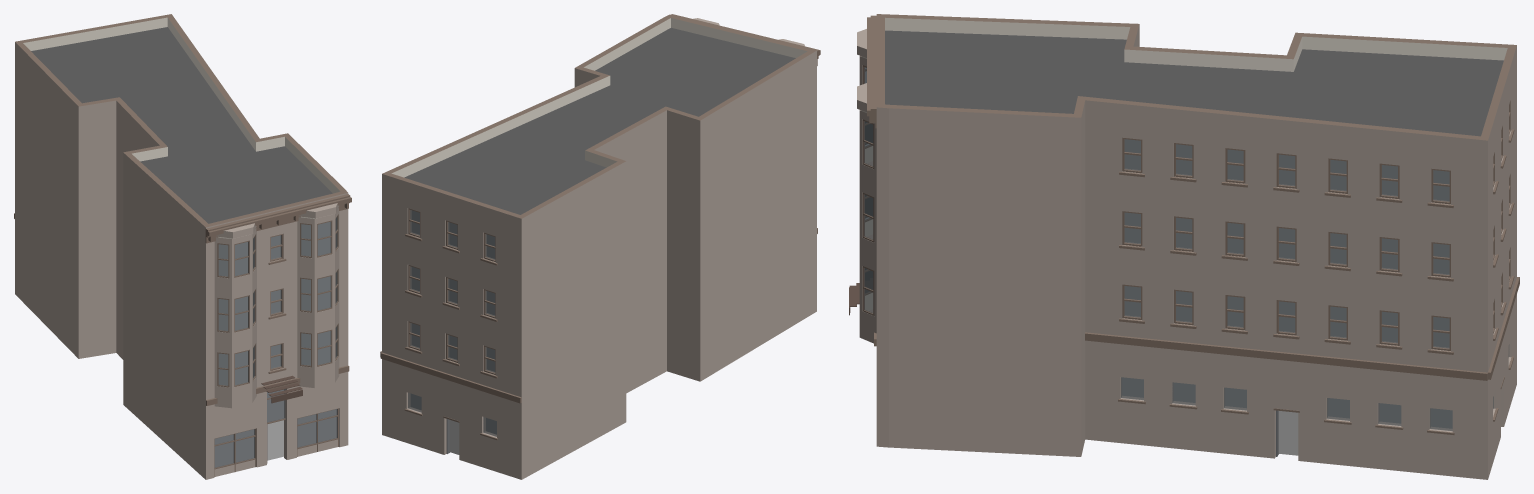
The model's file is exterior.glb.
3 renders of one model, left to right at view 1: azimuth 30°, elevation 25°; view 2: azimuth 150°, elevation 25°; view 3: azimuth 270°, elevation 25°, orthographic. The views are drawn at different scales.
Parts seen in each view (by area): view 1: shell, roof, bay-windows, shadow-proxy, bay-glazing, glazing, trim, storefront, frames, awning-spans-9; view 2: shell, roof, glazing, shadow-proxy, trim, frames; view 3: shell, roof, glazing, shadow-proxy, trim, frames, bay-windows, bay-glazing.
Part boxes in pixels (x1,y1,x2,y2): shell: (15,14,348,479); roof: (31,27,332,223); bay-windows: (214,203,339,408); shadow-proxy: (215,222,336,467); bay-glazing: (217,214,338,387); glazing: (214,235,337,467); trim: (14,194,351,405); storefront: (214,397,338,476); frames: (270,234,283,370); awning-spans-9: (261,375,302,397); shell: (382,14,816,479); roof: (404,27,795,214); glazing: (408,210,496,436); shadow-proxy: (411,210,496,454); trim: (380,14,820,440); frames: (408,208,495,374); shell: (876,14,1516,479); roof: (885,30,1503,136); glazing: (1121,139,1509,430); shadow-proxy: (1122,139,1452,455); trim: (867,15,1519,434); frames: (1122,100,1510,350); bay-windows: (857,29,876,343); bay-glazing: (860,56,874,315).
Size of the model in its own units: 12.47 by 15.42 by 27.63.
